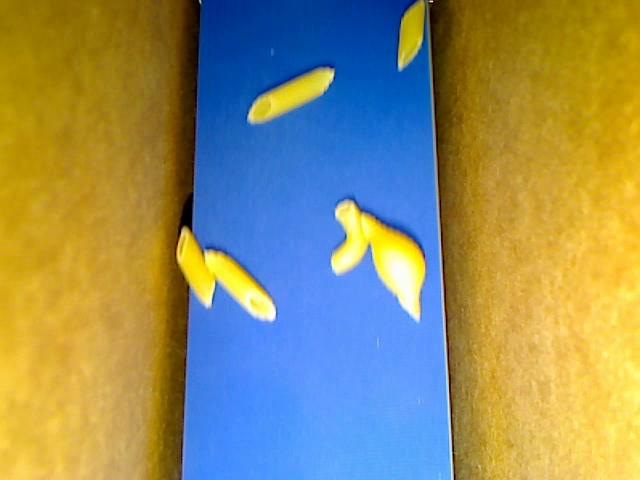elbow: (330, 200, 368, 274)
penne: (203, 248, 276, 323), (247, 64, 334, 124), (175, 225, 216, 308), (398, 1, 425, 71)
shell: (360, 212, 425, 322)
